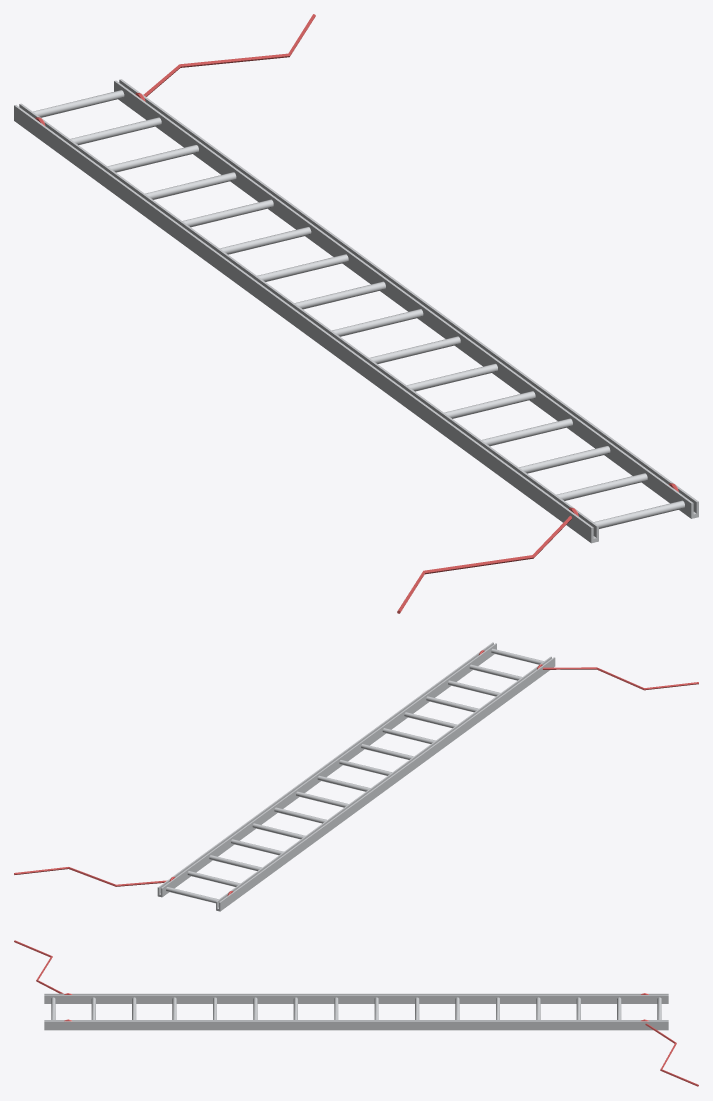
File: mountaineering-and-summit-expedition-crevasse-ladder-5287853f__18804.glb
The picture shows the model from 3 angles, top to bottom: view 1: azimuth 30°, elevation 25°; view 2: azimuth 150°, elevation 25°; view 3: azimuth 270°, elevation 25°; orthographic projection. The views are drawn at different scales.
Visible parts, largest first — view 1: crevasse-ladder; view 2: crevasse-ladder; view 3: crevasse-ladder.
Boxes of the visible parts, x1,y1,x2,y2 form: crevasse-ladder: [14, 14, 698, 613]; crevasse-ladder: [14, 642, 698, 911]; crevasse-ladder: [14, 940, 698, 1086].
Bounding box in the file's own units: 2.31 × 0.0799 × 4.61.
